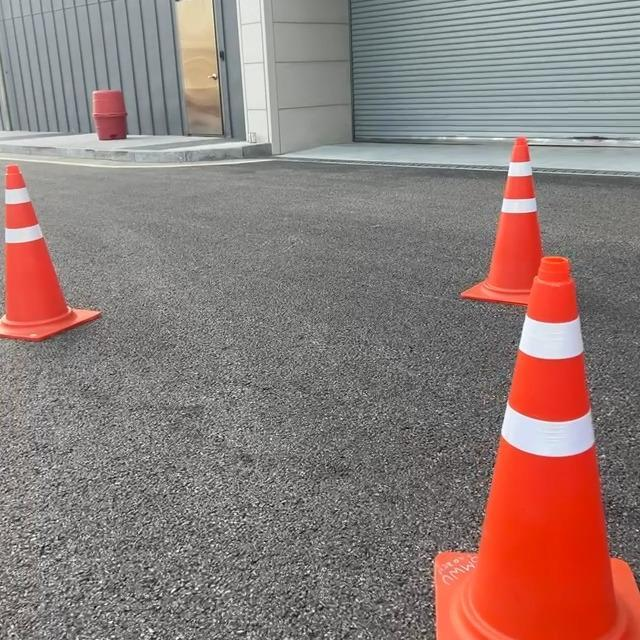fallen_object: (351, 221, 640, 640), (437, 99, 569, 307), (10, 96, 116, 349)
